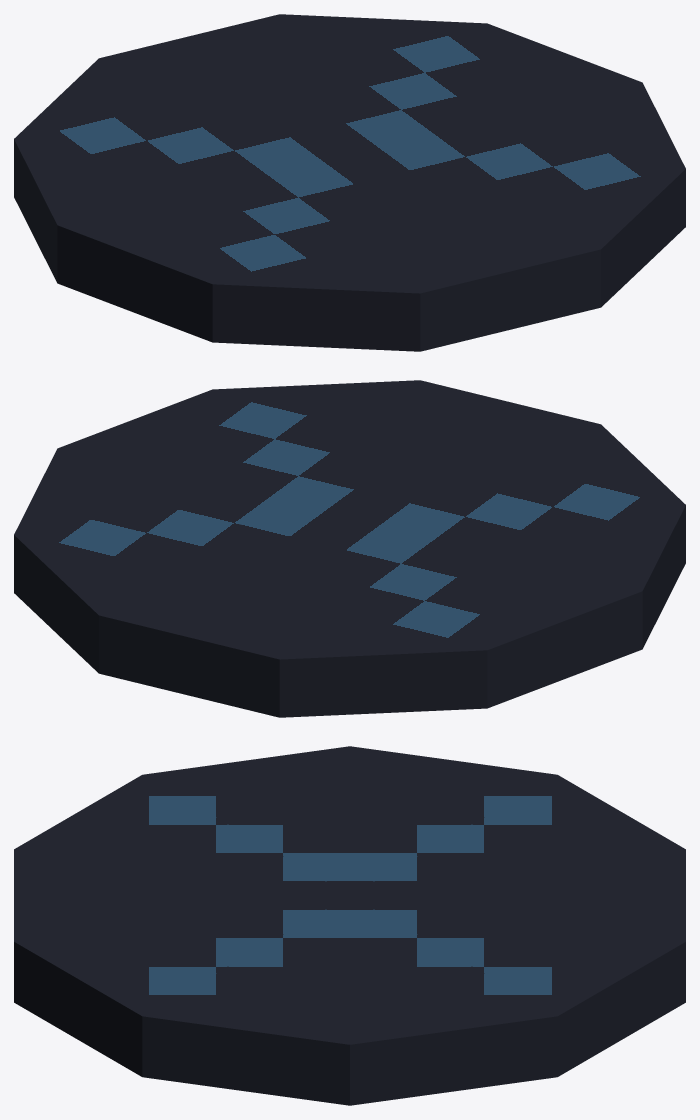
The model's file is cover.glb.
3 views of the same model, one above another, from view 1: azimuth 30°, elevation 25°; view 2: azimuth 150°, elevation 25°; view 3: azimuth 270°, elevation 25° (orthographic). The views are drawn at different scales.
Parts seen in each view (by area): view 1: cover-col; view 2: cover-col; view 3: cover-col.
Part boxes in pixels (box(x1,y1,x2,y2)): cover-col: box(14, 14, 685, 351); cover-col: box(14, 380, 685, 717); cover-col: box(14, 746, 685, 1105).
Bounding box in the file's own units: 0.6572 × 0.0625 × 0.625.
Materials: 1 (1 with a texture image).
